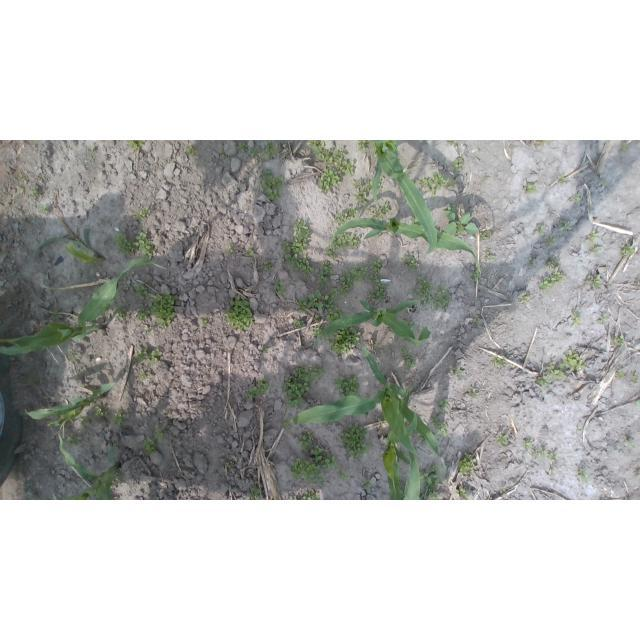Maize: (289, 347, 448, 478), (0, 257, 168, 354), (329, 217, 483, 275), (369, 140, 438, 254), (27, 417, 121, 500), (321, 299, 432, 345), (25, 380, 115, 426), (382, 412, 418, 500), (35, 231, 106, 264), (404, 447, 421, 500)
Weeds: (281, 220, 316, 277), (282, 365, 324, 408), (412, 277, 451, 310), (444, 205, 480, 238), (340, 423, 371, 460), (112, 232, 156, 257), (150, 291, 178, 329), (224, 296, 255, 330), (291, 457, 326, 487), (325, 327, 361, 355), (418, 171, 456, 197), (325, 233, 361, 259), (340, 266, 369, 296), (260, 168, 285, 201), (323, 288, 345, 325), (369, 259, 388, 301), (312, 445, 341, 472), (421, 465, 442, 500), (307, 140, 336, 164), (540, 270, 568, 293), (318, 167, 341, 193), (297, 290, 323, 313), (333, 375, 359, 397), (352, 179, 373, 206), (336, 148, 355, 176), (247, 378, 269, 402), (334, 207, 359, 228), (457, 453, 478, 477), (316, 261, 333, 290), (563, 351, 587, 371), (135, 349, 161, 365), (431, 413, 448, 437), (547, 362, 567, 381), (532, 447, 559, 461), (368, 204, 390, 220), (297, 432, 313, 453), (587, 231, 602, 253), (143, 437, 158, 456), (403, 352, 417, 372), (115, 305, 130, 322), (405, 252, 418, 271), (620, 244, 636, 259), (113, 412, 128, 428), (66, 433, 82, 448), (249, 482, 262, 500), (537, 373, 552, 388), (273, 280, 287, 296), (135, 284, 148, 301), (586, 274, 601, 288), (128, 141, 147, 152), (264, 140, 276, 157), (455, 488, 472, 500), (571, 307, 582, 325), (611, 333, 625, 347), (545, 257, 560, 270), (136, 208, 151, 221), (138, 307, 151, 322), (524, 181, 540, 193), (452, 156, 464, 172), (495, 432, 507, 448), (301, 490, 320, 500), (437, 398, 450, 412), (577, 469, 589, 484), (493, 355, 508, 367), (557, 219, 571, 231), (95, 405, 109, 417), (185, 144, 196, 157), (402, 320, 416, 330), (467, 388, 480, 398), (237, 142, 248, 153), (294, 319, 305, 330), (624, 438, 636, 448), (484, 251, 496, 261), (480, 230, 492, 240), (471, 270, 481, 282), (312, 327, 324, 337), (154, 427, 164, 439), (338, 468, 348, 480), (361, 479, 373, 489), (398, 336, 410, 346), (29, 187, 40, 197), (597, 314, 608, 324), (454, 366, 465, 376), (418, 434, 428, 445), (114, 472, 123, 484), (68, 349, 77, 361), (249, 148, 260, 157), (547, 236, 558, 245), (536, 224, 544, 236), (260, 156, 273, 163), (200, 316, 210, 325), (356, 141, 366, 150), (264, 261, 273, 271), (139, 371, 147, 382), (616, 369, 625, 378), (410, 217, 420, 225), (523, 440, 533, 448), (282, 419, 290, 429), (263, 345, 270, 356), (573, 195, 581, 204), (528, 259, 536, 268), (377, 180, 383, 192), (39, 206, 49, 213), (473, 317, 484, 323), (631, 374, 639, 382), (622, 143, 629, 152), (559, 174, 566, 183), (18, 174, 26, 181), (88, 156, 95, 164), (521, 296, 529, 303), (315, 313, 322, 321), (113, 443, 120, 451), (399, 347, 408, 353), (248, 248, 254, 257), (88, 148, 96, 154), (636, 276, 640, 288), (227, 246, 233, 253), (635, 398, 640, 406), (264, 427, 269, 435), (21, 221, 27, 227), (500, 487, 506, 493), (485, 176, 492, 181), (450, 141, 457, 146), (229, 462, 234, 468), (220, 150, 225, 155), (616, 446, 620, 450), (578, 425, 582, 428)
